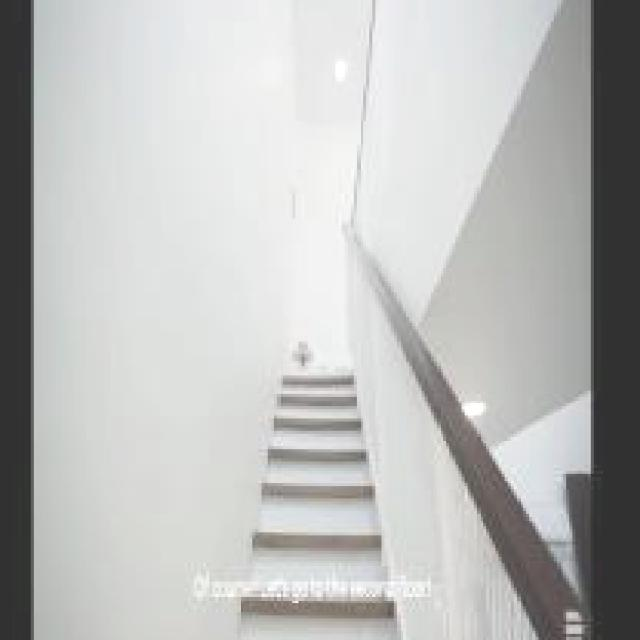upstair: (253, 348, 382, 640)
